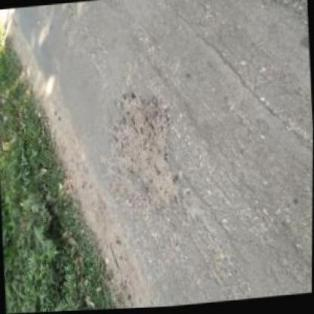Hueco: (104, 84, 180, 208)
